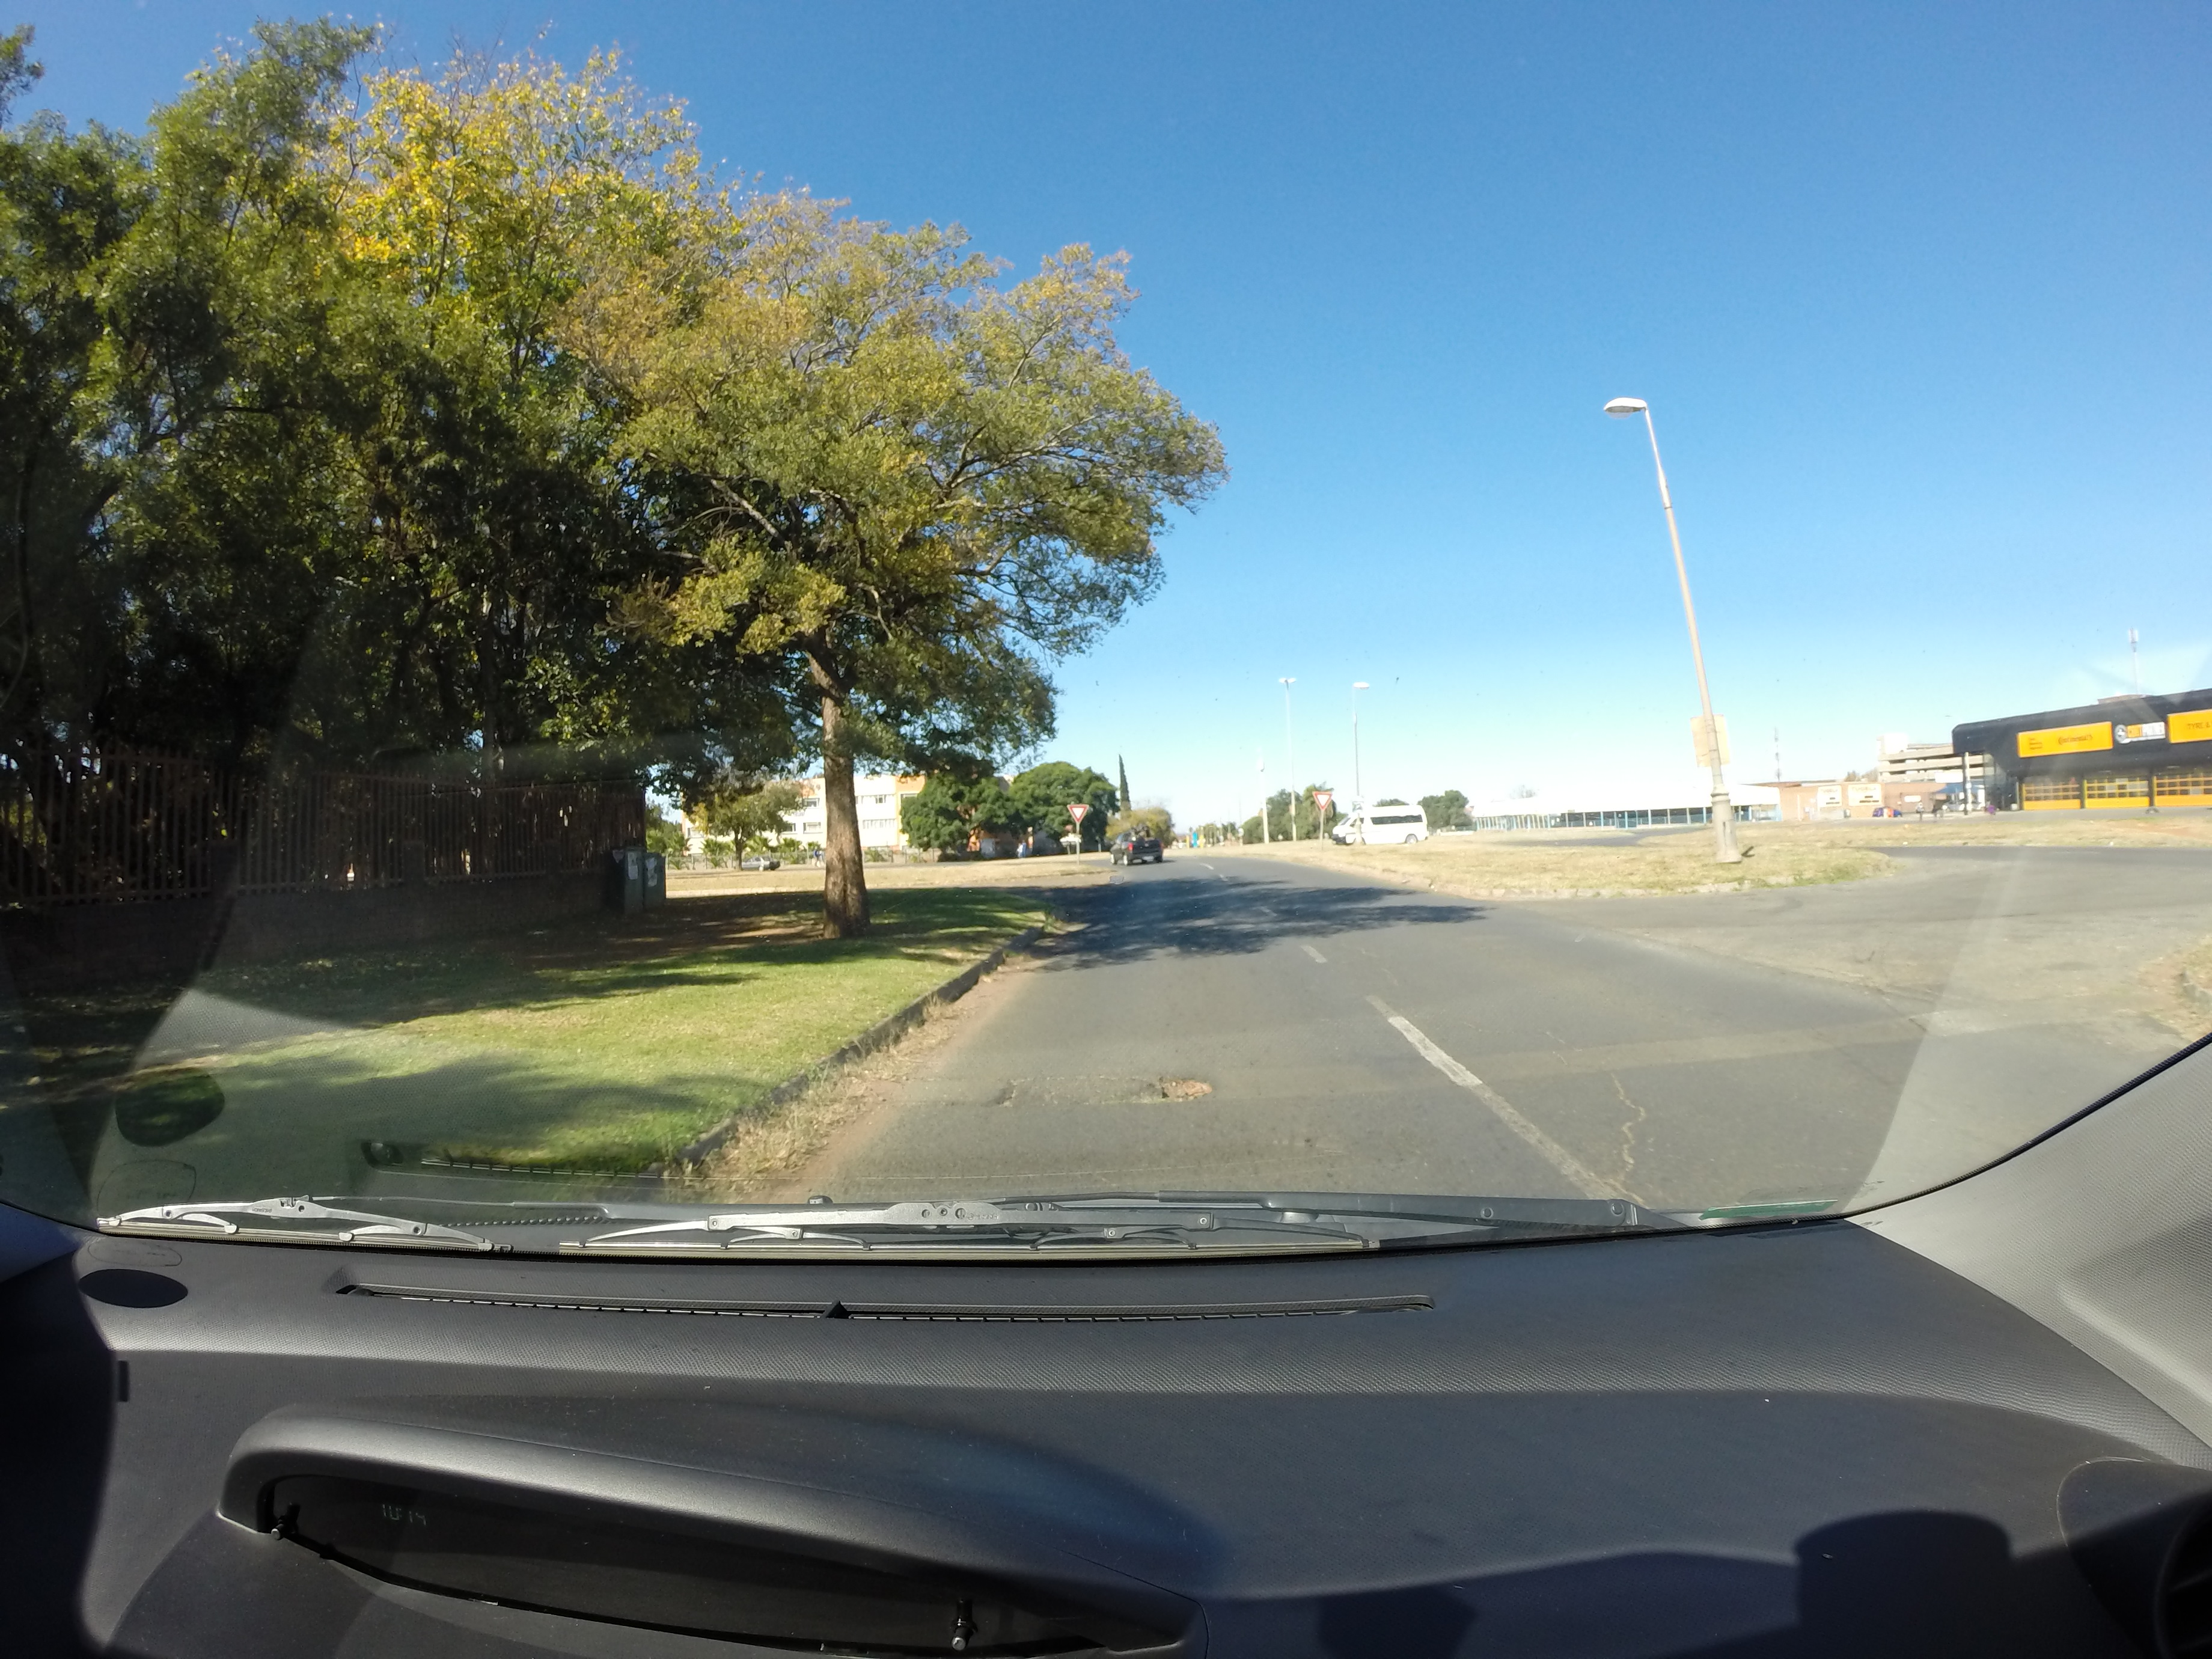pothole: (1075, 1014, 1259, 1129)
